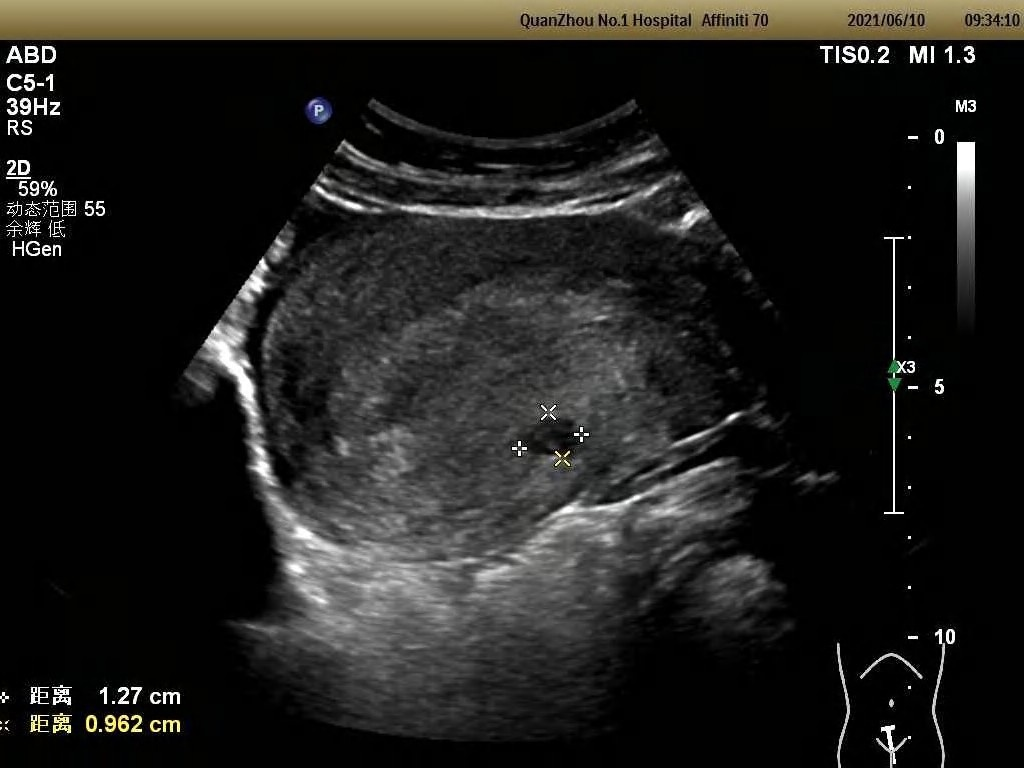肌瘤: (525, 420, 577, 455)
